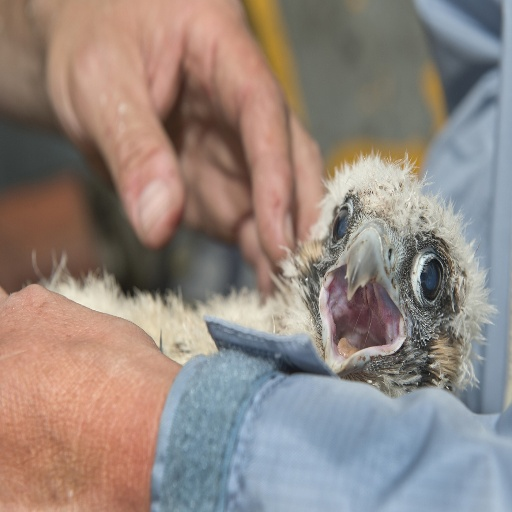hand: (11, 17, 334, 272), (0, 286, 167, 510)
